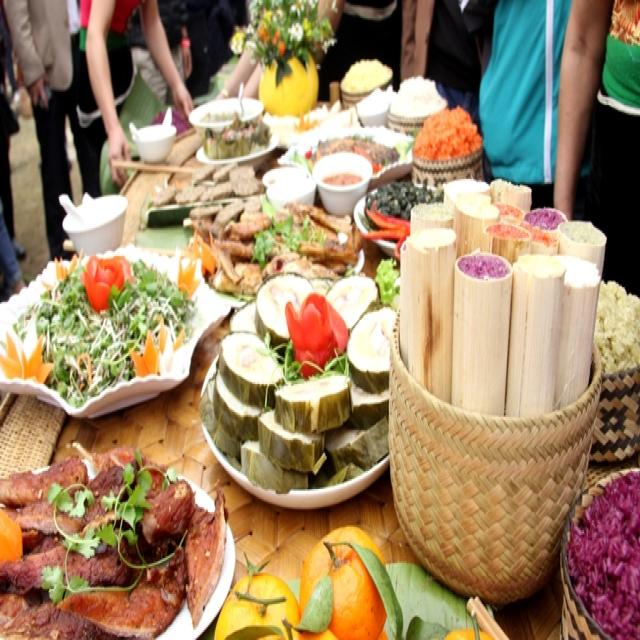banh tet: (210, 274, 400, 492)
heo nuong: (1, 464, 236, 637)
quyt: (214, 518, 395, 640)
rau gia: (2, 258, 210, 408)
xoi: (402, 115, 639, 640)
